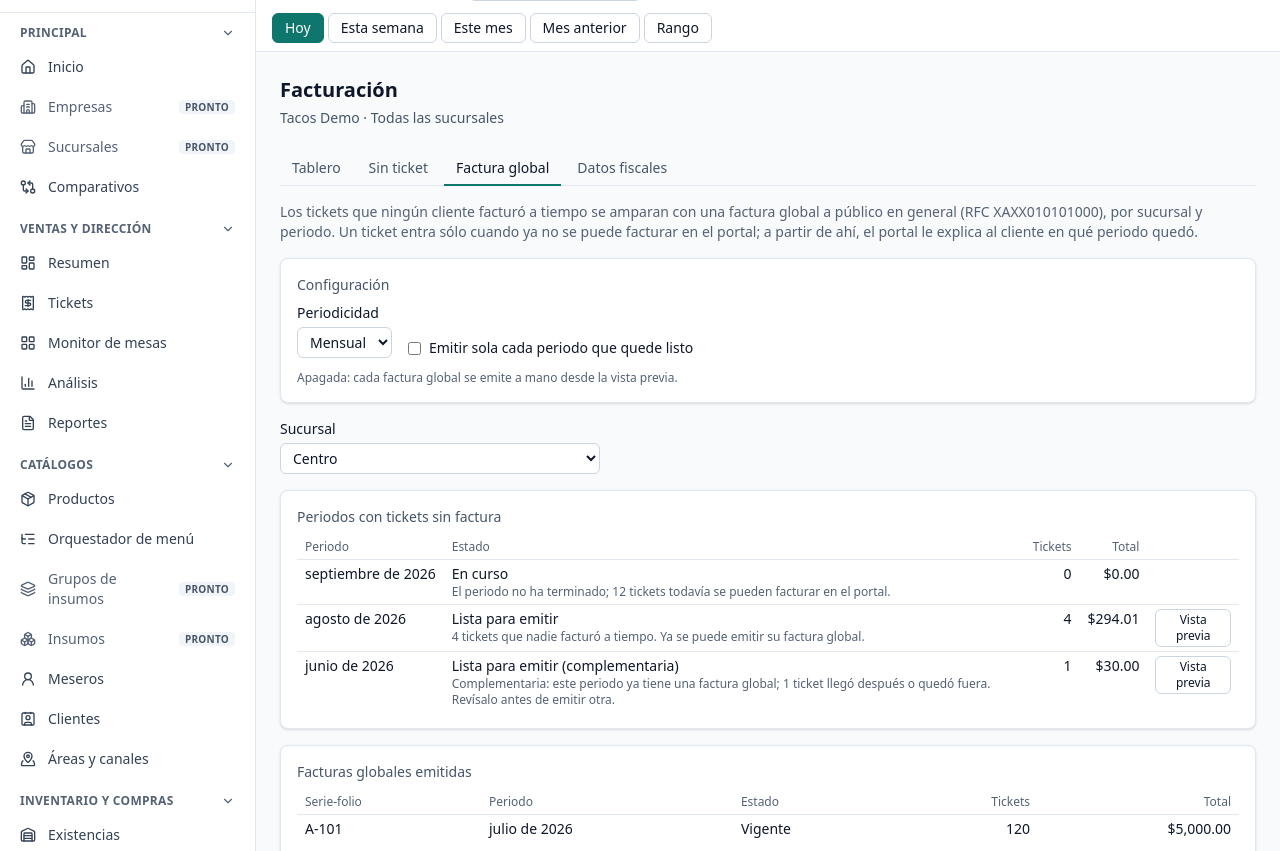
Test: factura global (F2-108) › un 409 del api se dice tal cual
Check: the text "agosto de 2026" is shown, box [297,604,444,652]
Step 1. Click the button "Vista previa" in the row of "agosto de 2026" → (1193, 628), box [1155,609,1231,647]
(page scrolled)
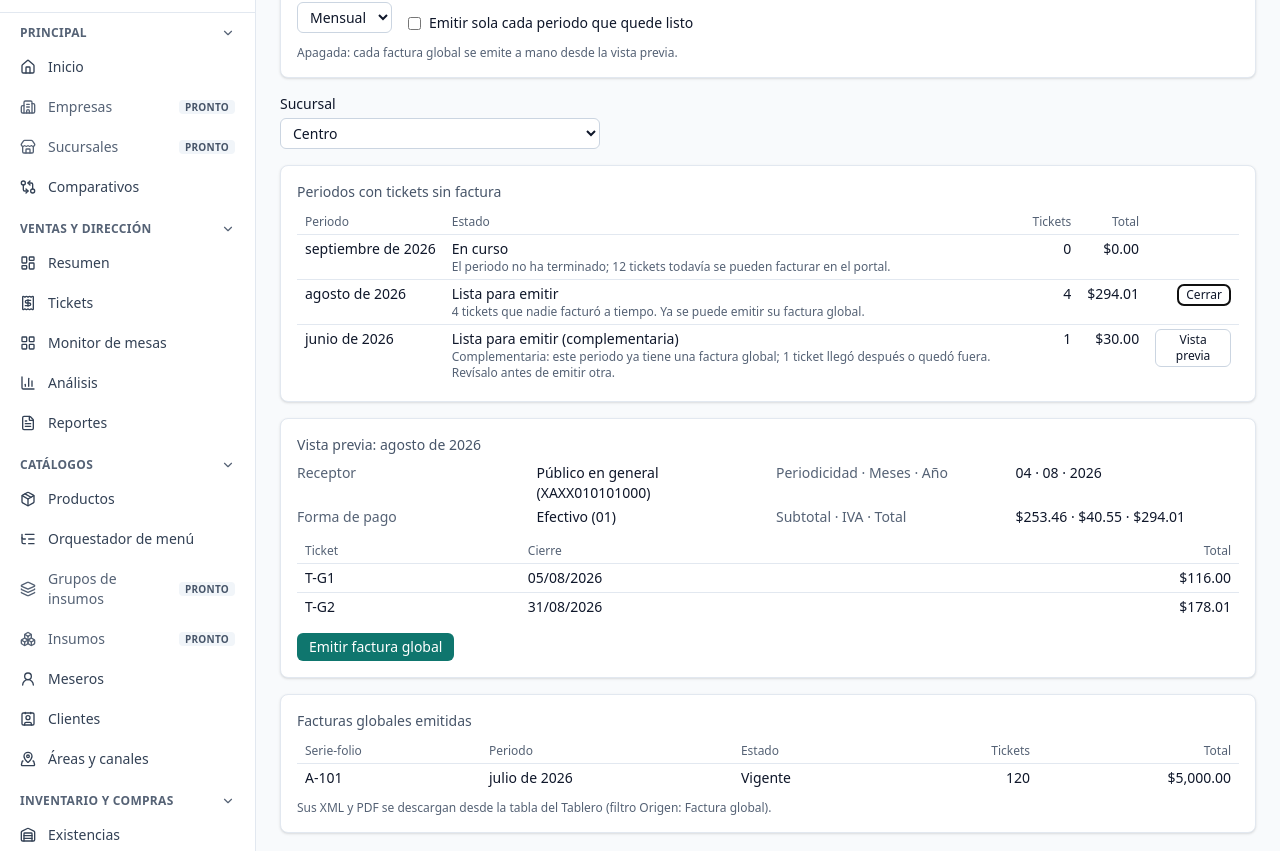
Step 2. Click the button "Emitir factura global" → (376, 647), box [297,633,454,661]
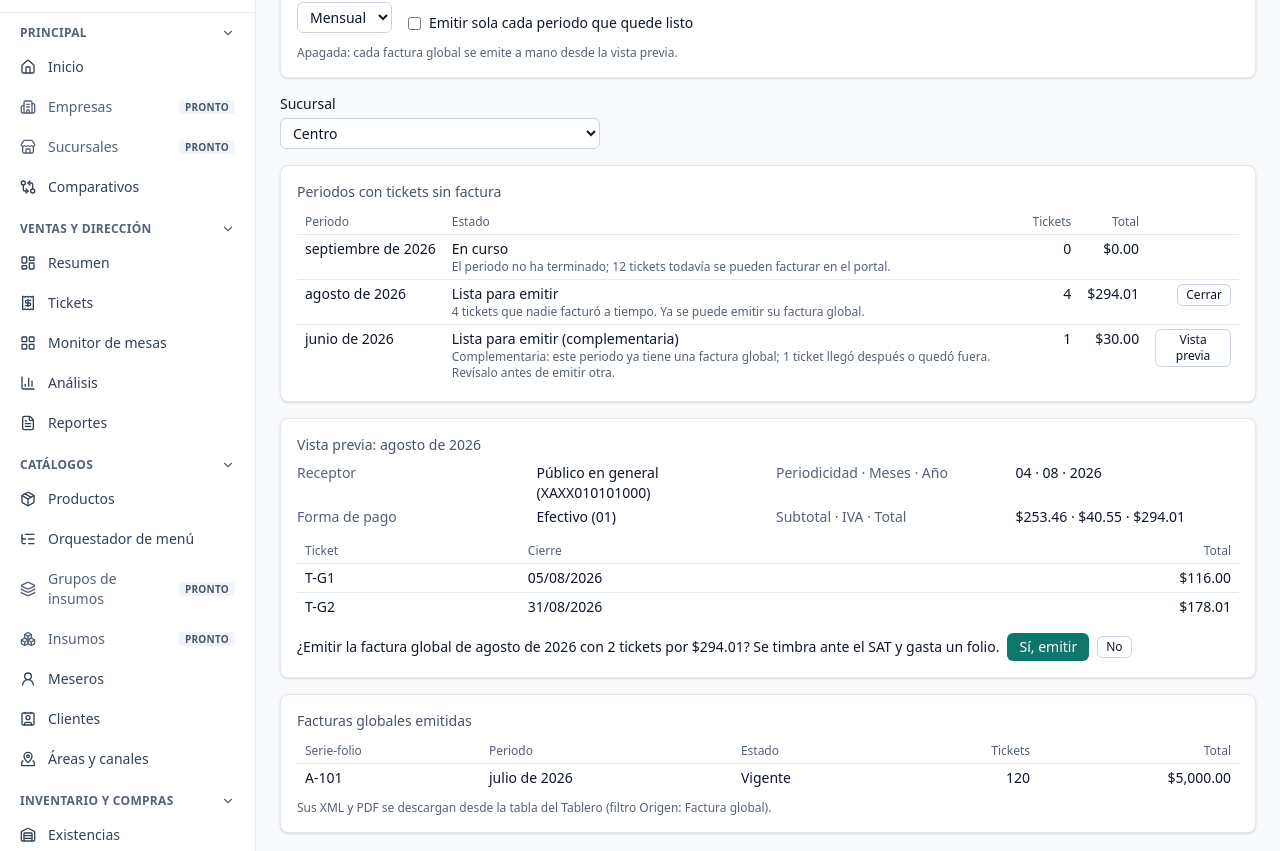
Step 3. Click the button "Sí, emitir" → (1048, 647), box [1008,633,1089,661]
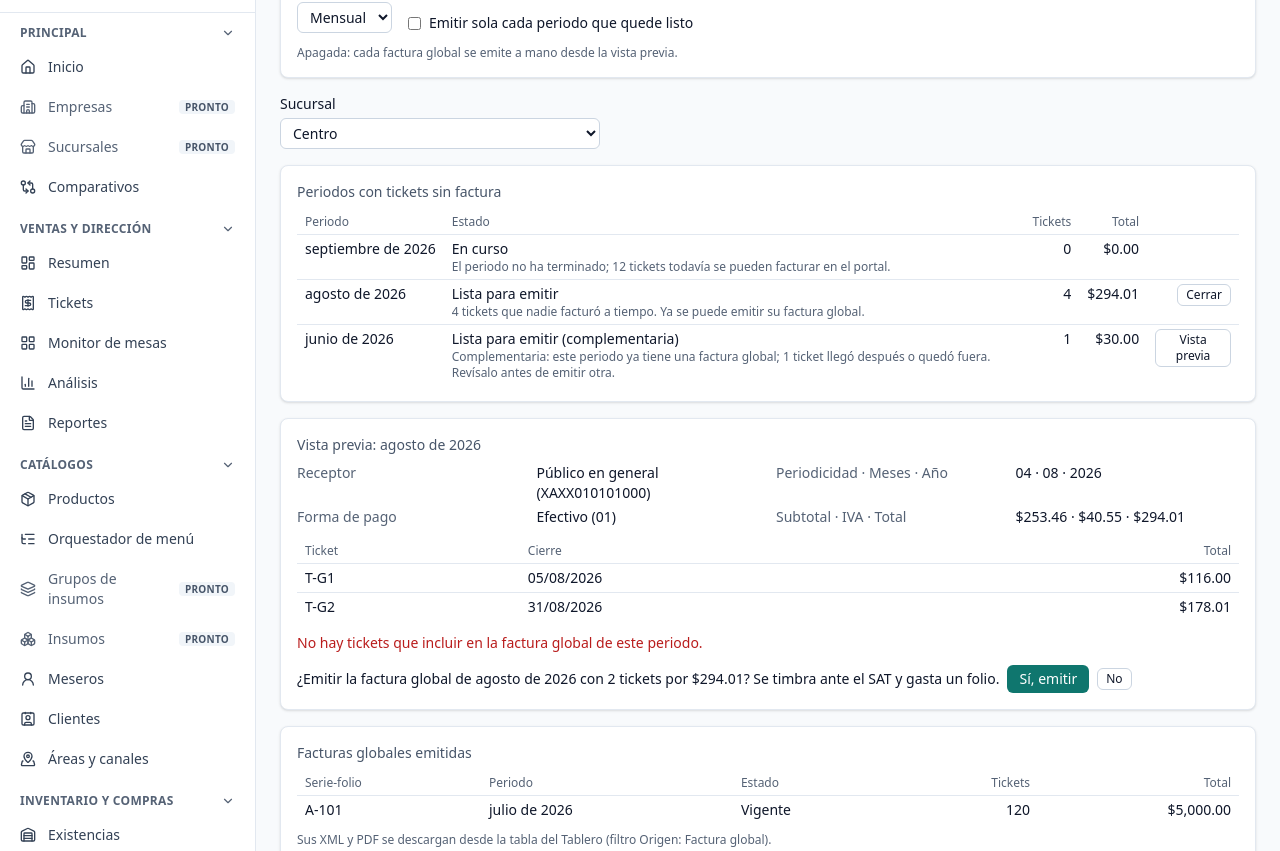
Check: the message shows "No hay tickets que incluir", box [297,633,703,652]
